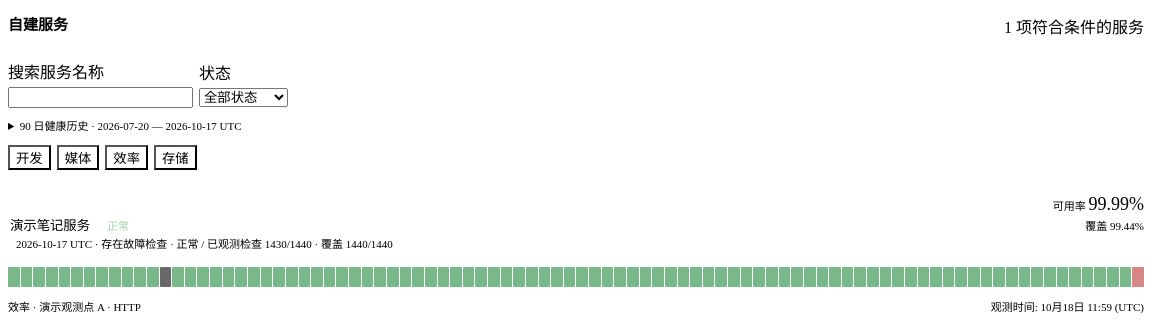
Test: health history offers one keyboard stop with day navigation, pointer selection and Escape dismissal
Press Home in the slider named "演示笔记服务 · 90 日健康历史", box 8,263 -> 1144,291
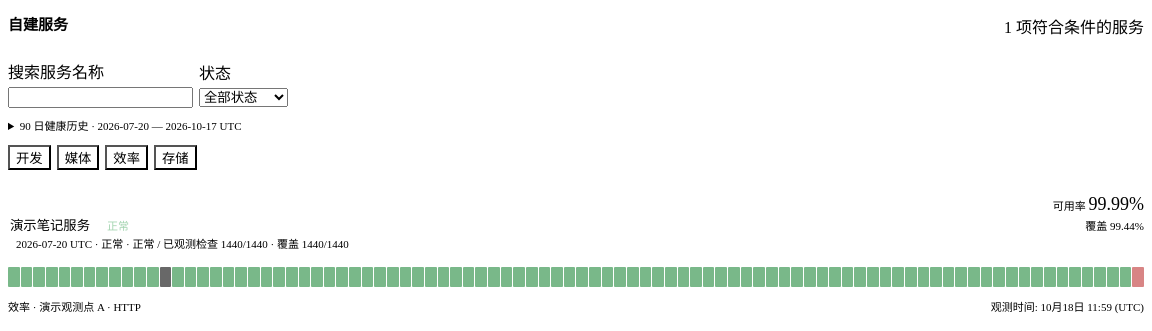
Press ArrowRight in the slider named "演示笔记服务 · 90 日健康历史", box 8,263 -> 1144,291
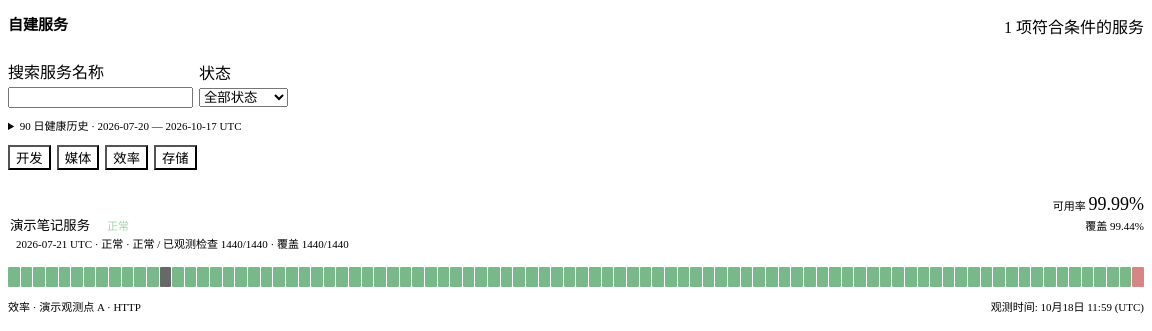
Press End in the slider named "演示笔记服务 · 90 日健康历史", box 8,263 -> 1144,291
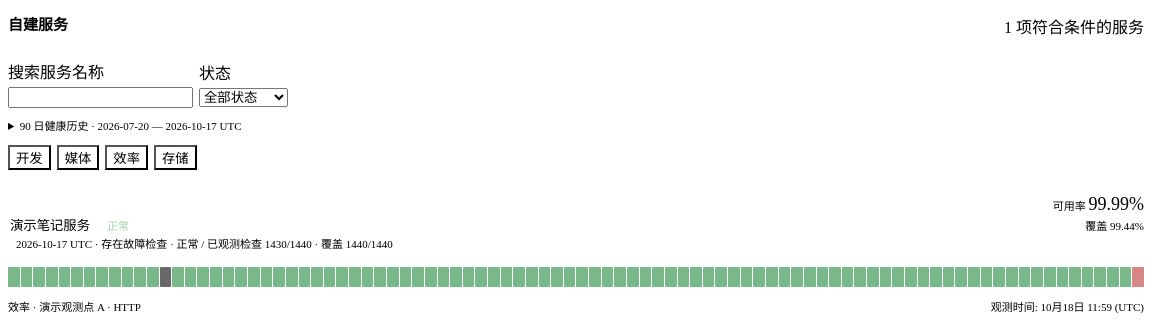
Press Escape in the slider named "演示笔记服务 · 90 日健康历史", box 8,263 -> 1144,291
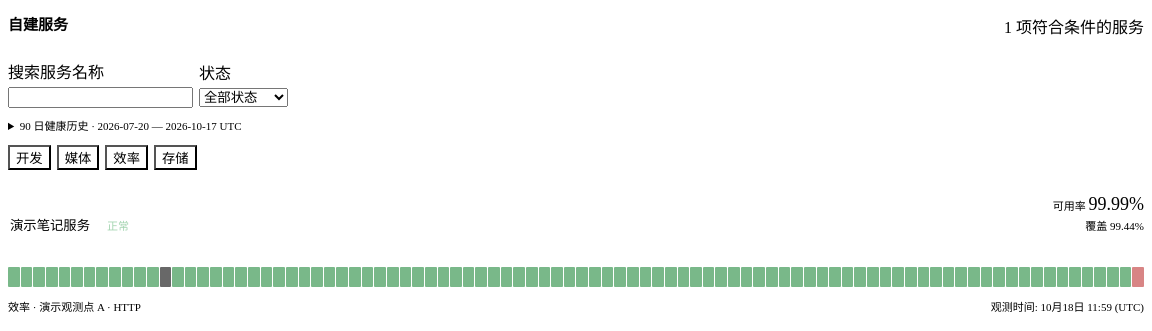
Press ArrowLeft in the slider named "演示笔记服务 · 90 日健康历史", box 8,263 -> 1144,291
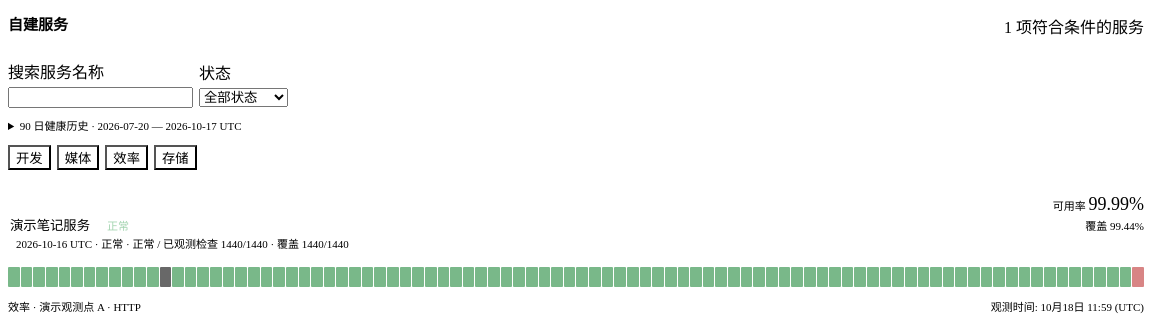
Now the message "2026-10-16 UTC · 正常 · 正常 / 已观测检查 1440/1440 · 覆盖 1440/1440" is shown, box 16,238 -> 349,250
Press the mouse on the slider named "演示笔记服务 · 90 日健康历史" at (576, 277), box 8,263 -> 1144,291
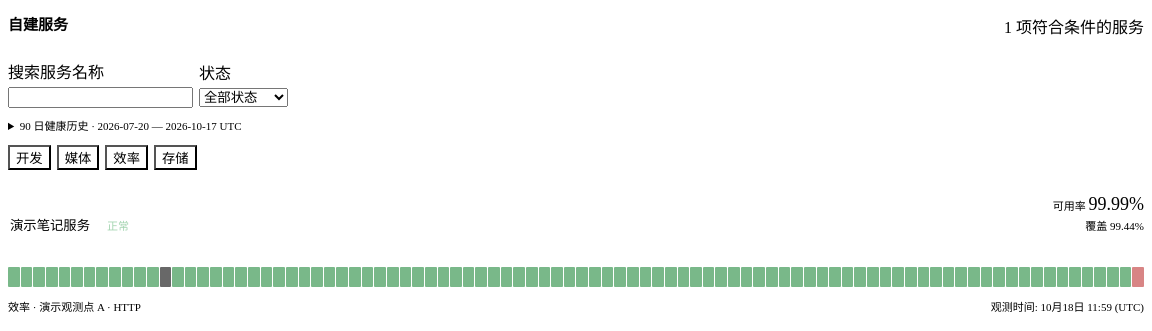
Now the message "2026-10-16 UTC · 正常 · 正常 / 已观测检查 1440/1440 · 覆盖 1440/1440" is gone
